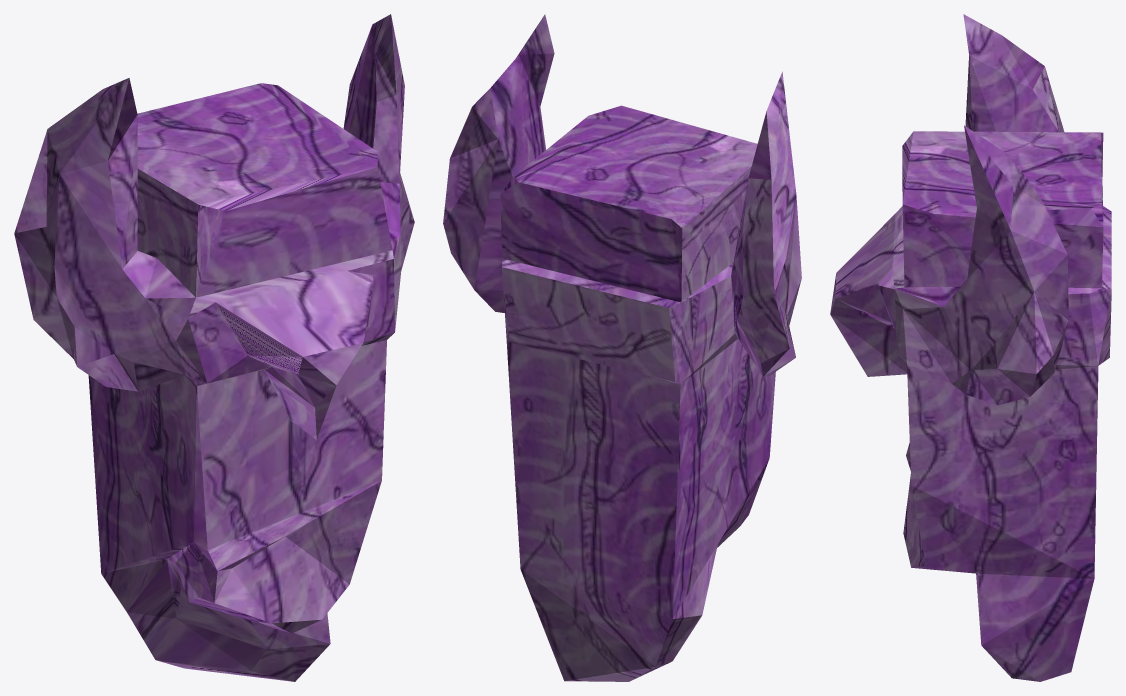
File: pm-str-ruins-01.glb
3 renders of one model, left to right at view 1: azimuth 30°, elevation 25°; view 2: azimuth 150°, elevation 25°; view 3: azimuth 270°, elevation 25°, orthographic. The views are drawn at different scales.
Parts seen in each view (by area): view 1: Str_Ruins_01_Art; view 2: Str_Ruins_01_Art; view 3: Str_Ruins_01_Art.
Part boxes in pixels (box(x1,y1,x2,y2)): Str_Ruins_01_Art: box(14, 14, 414, 681); Str_Ruins_01_Art: box(443, 14, 801, 681); Str_Ruins_01_Art: box(830, 14, 1111, 681).
Size of what is drawn, in the model's own units: 2.13 by 3.73 by 1.63.
1 material, 1 textured.
